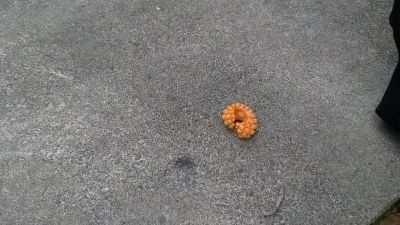eggs: (220, 101, 260, 139)
